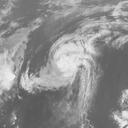cyclone: (20, 33, 101, 95)
